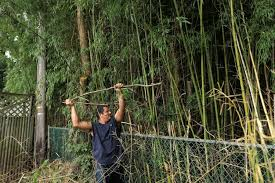bamboo: (49, 7, 271, 82), (138, 88, 273, 141)
